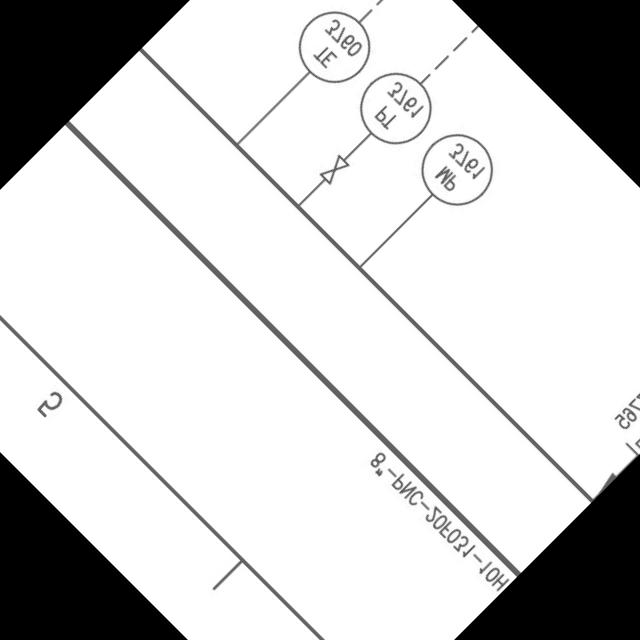GV: (312, 148, 354, 190)
